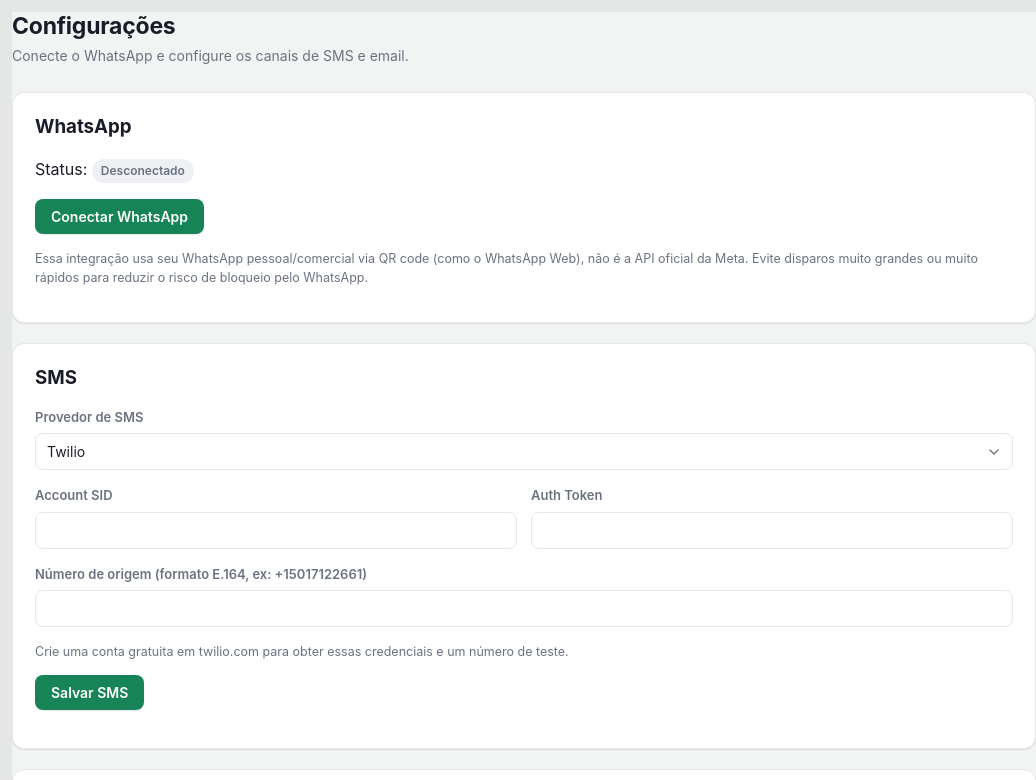
Test: ConfiguracoesPage - SMS provider fields › saves the SMS section with the edited values
The width and height of the screenshot is (1036, 780).
Type "ACxxx" into the field labelled "Account SID" at (276, 530), box x1=35 y1=512 x2=517 y2=549
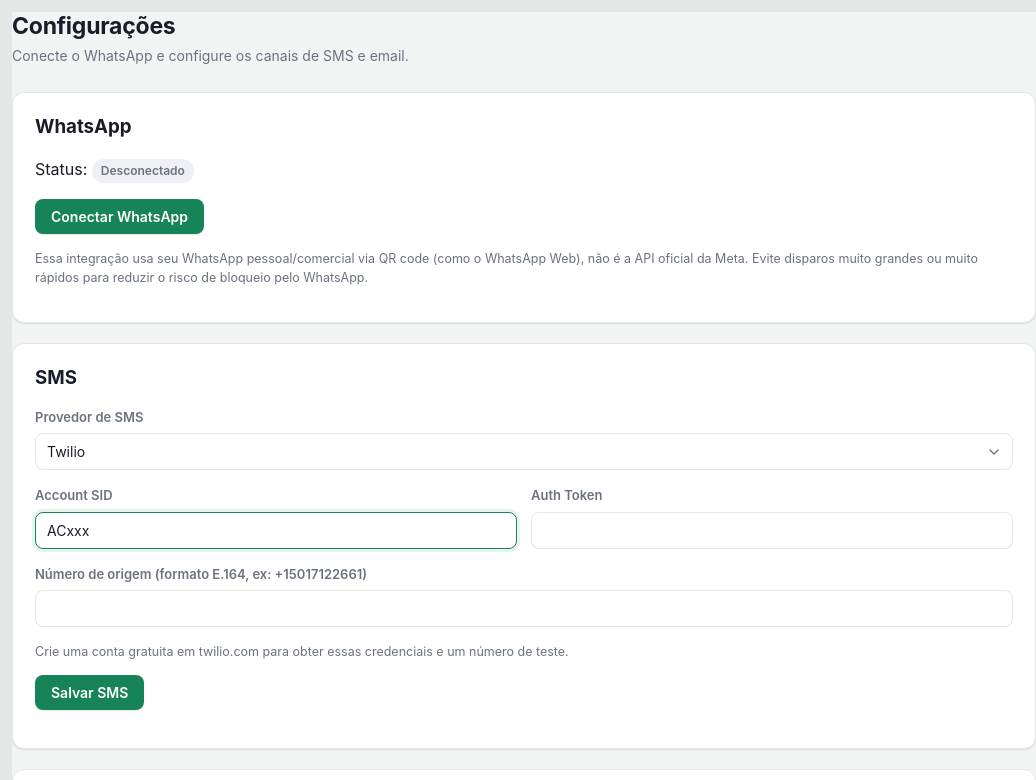
Click the button "Salvar SMS" at (90, 692), box x1=35 y1=675 x2=144 y2=710
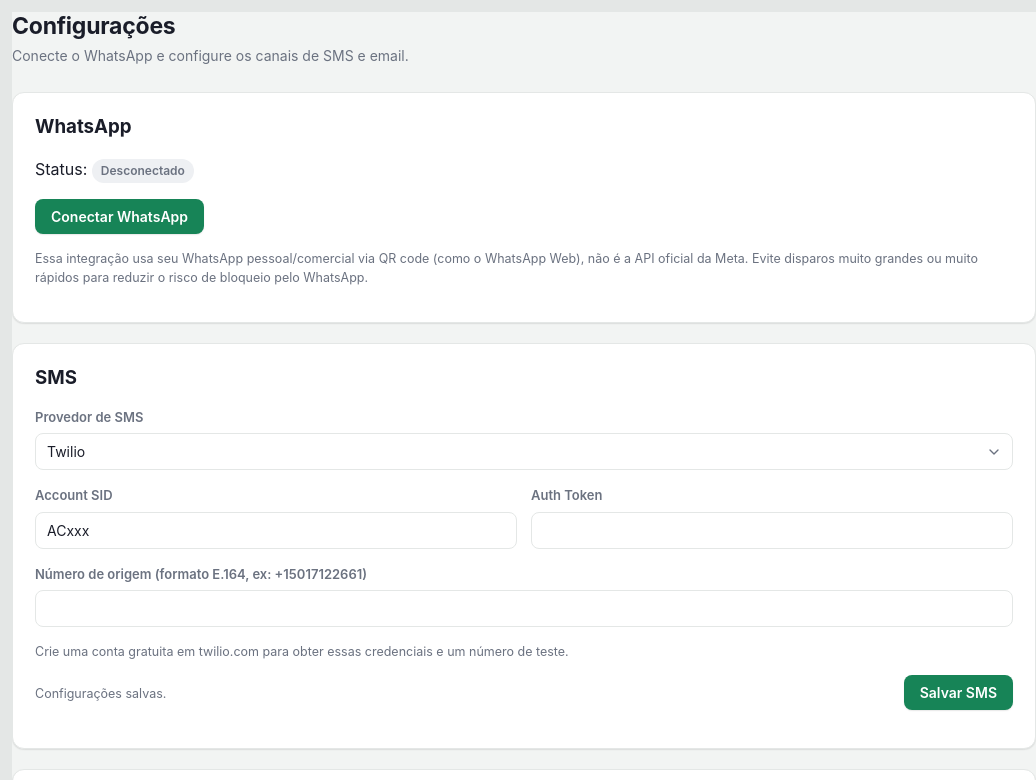
Result: the text "Configurações salvas." is shown at x1=35 y1=685 x2=166 y2=704
